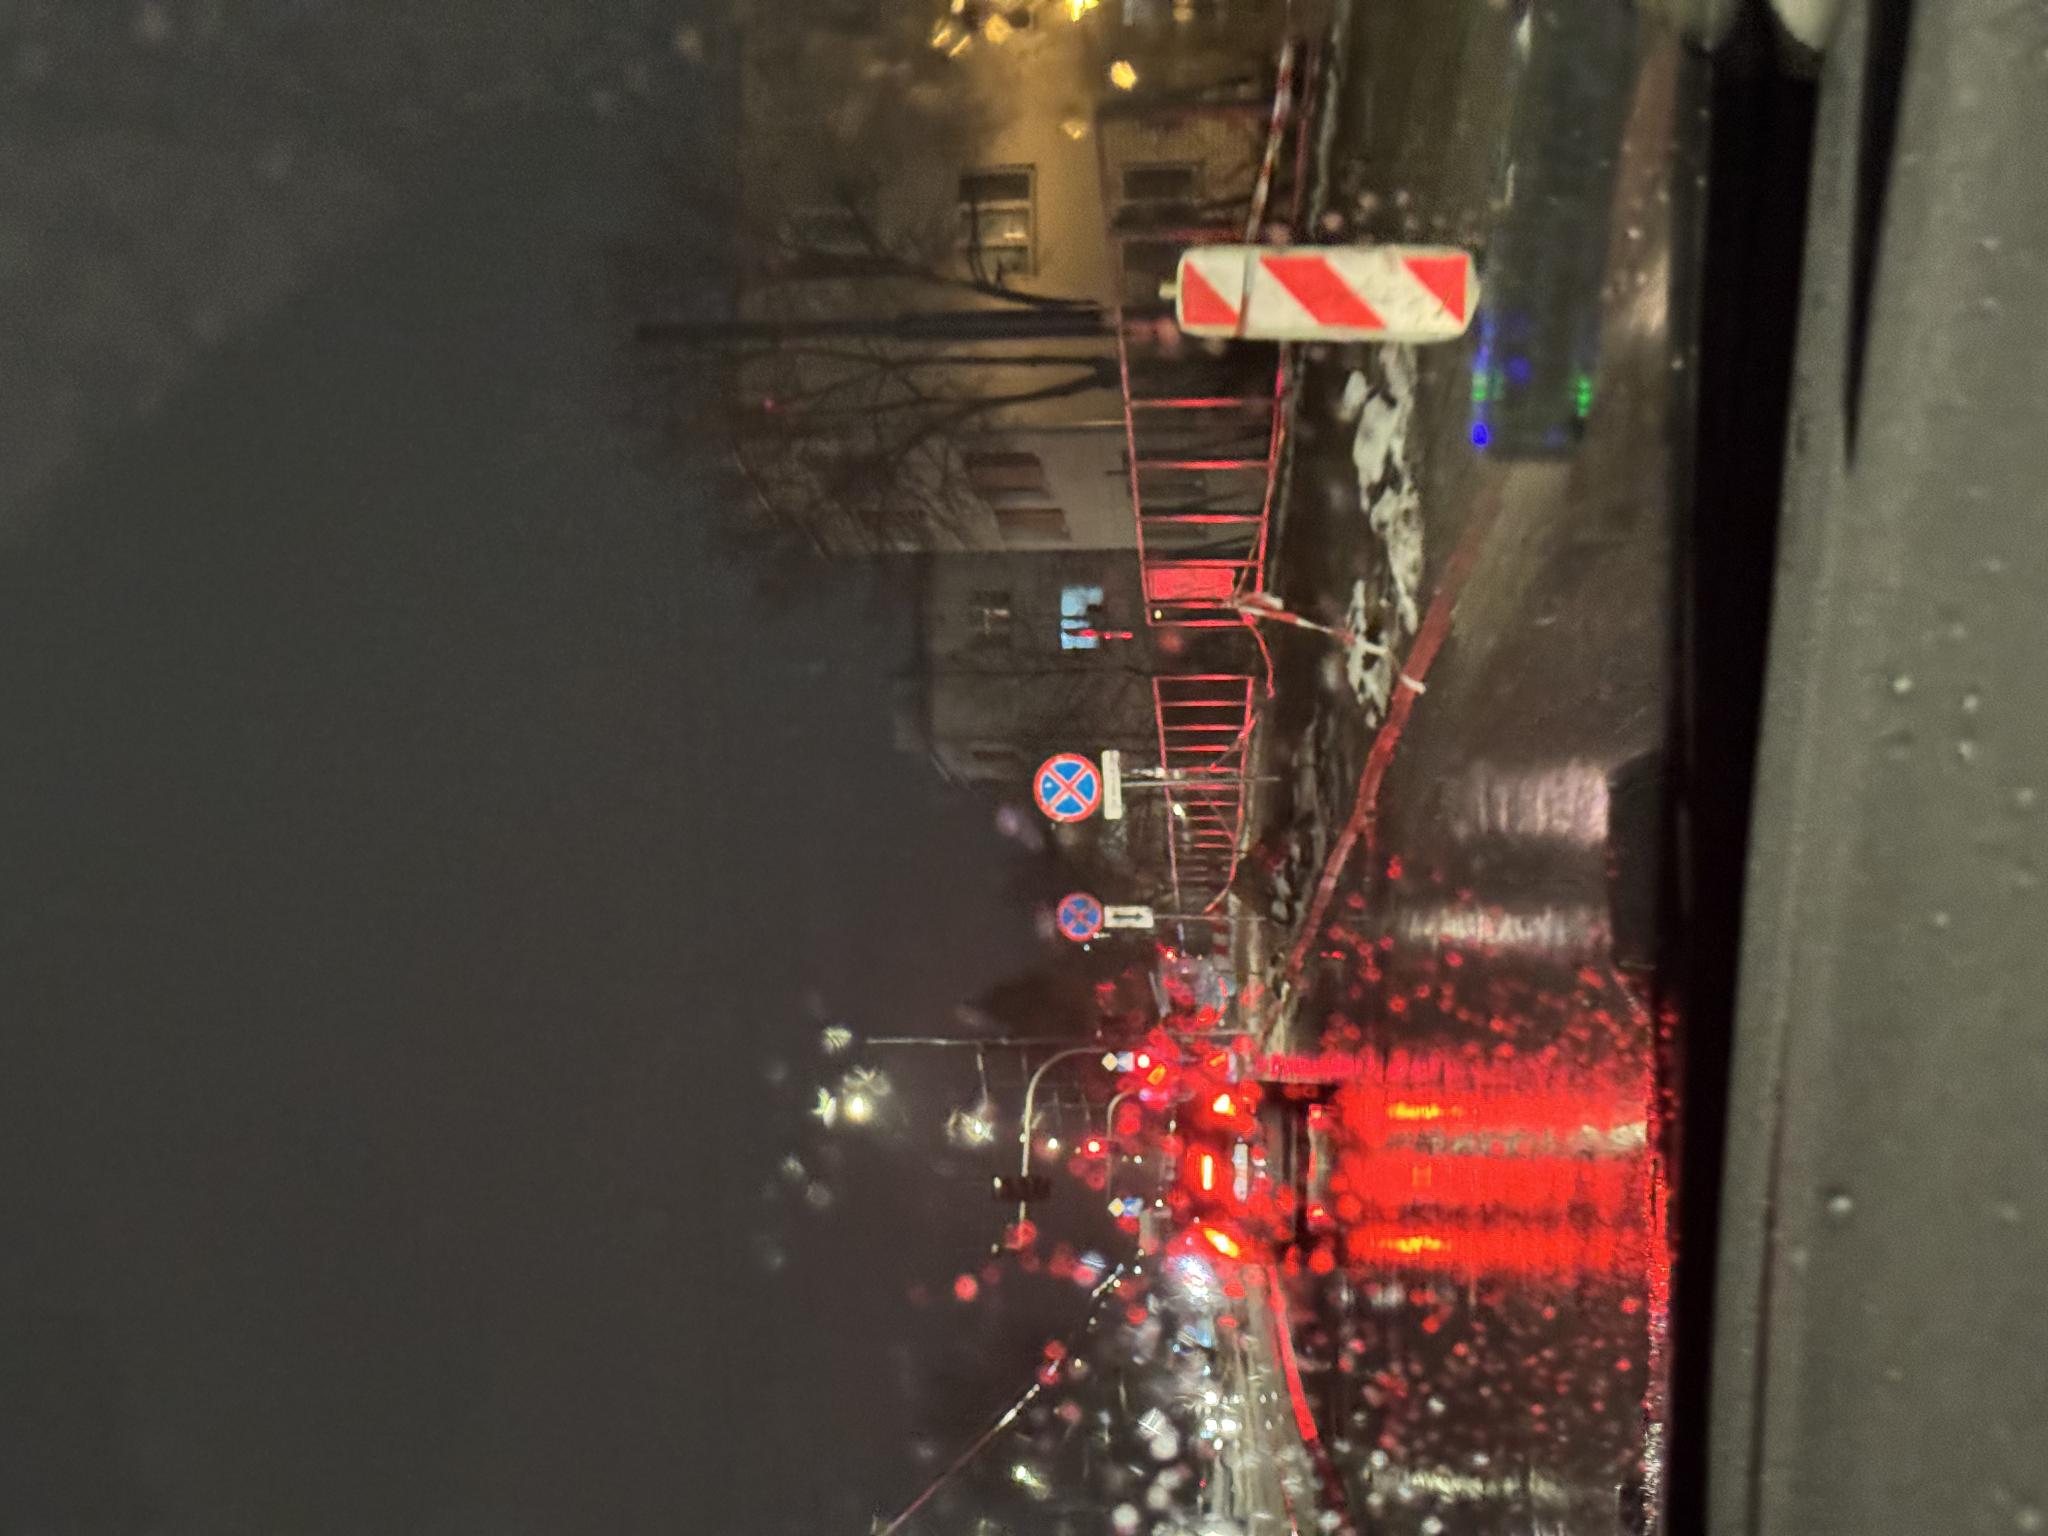other: (608, 1103, 632, 1155)
prohibitory: (712, 1034, 784, 1104), (594, 1056, 644, 1104)
